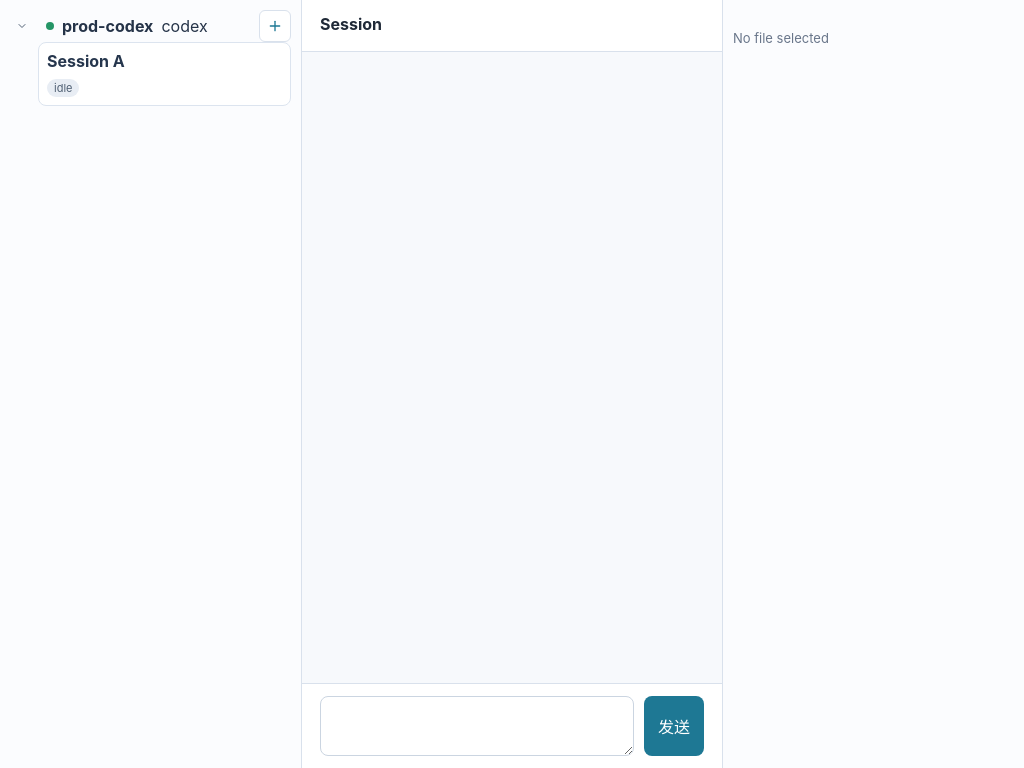
updates turn state from backend-neutral error status code
The width and height of the screenshot is (1024, 768).
Click the button "Session A idle": [164, 74] box [38,42,291,106]
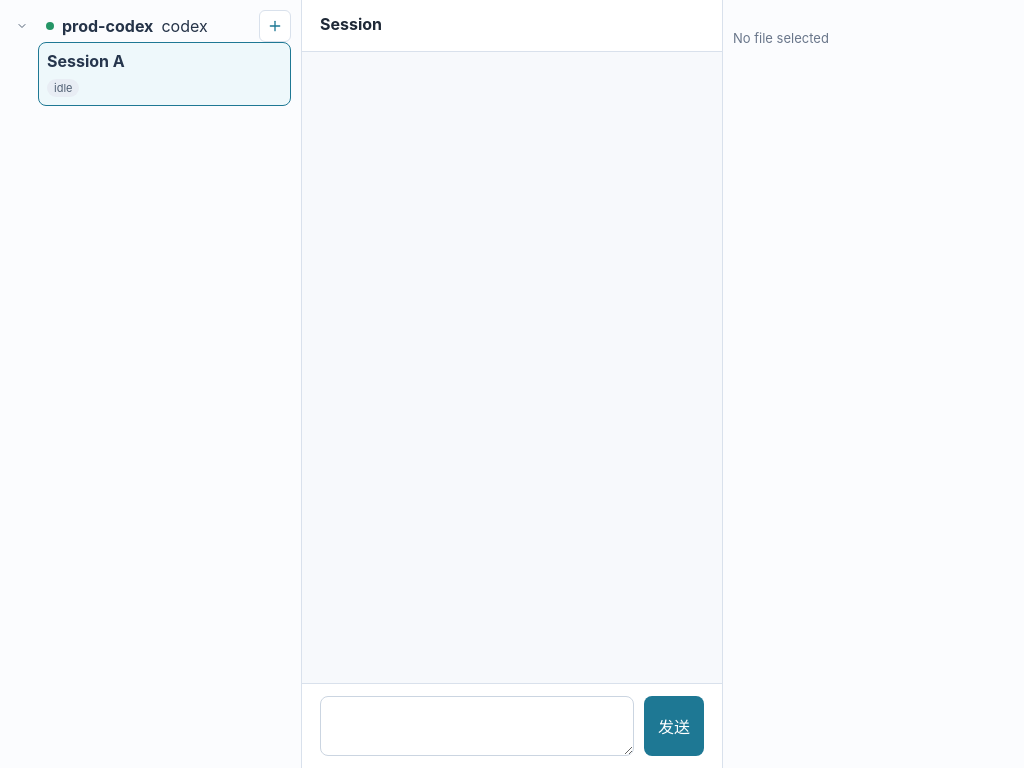
In the text box named "输入提示词": [477, 726] box [320,696,634,756], type "go"
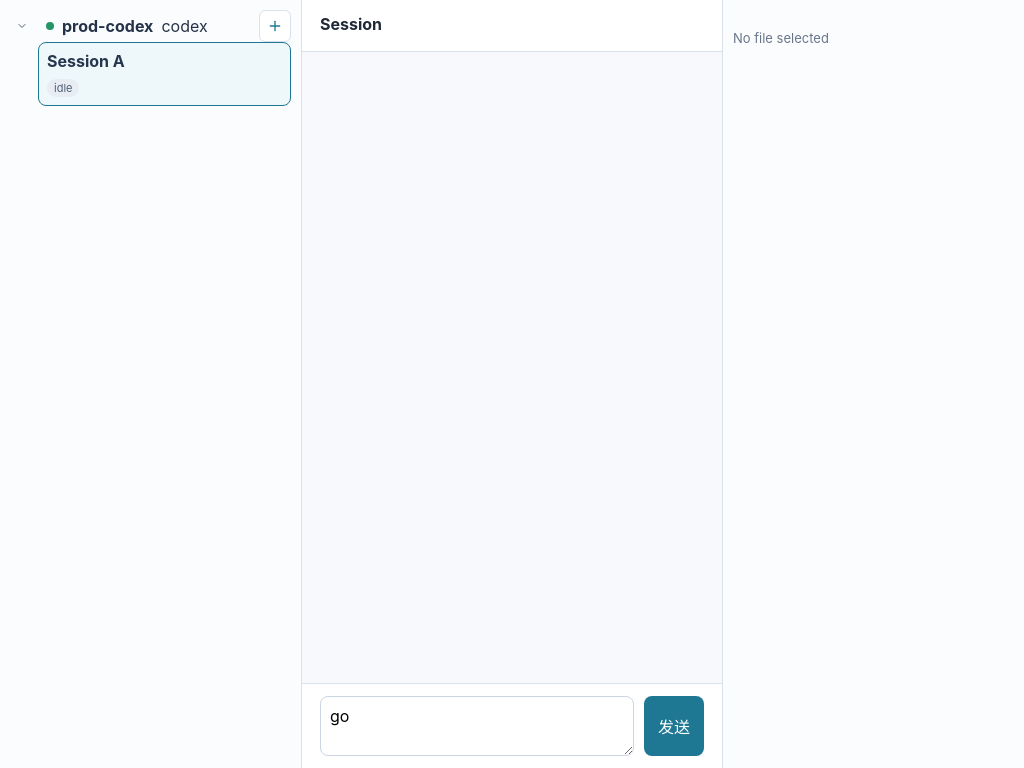
Submit the form, box [302,683,722,767]
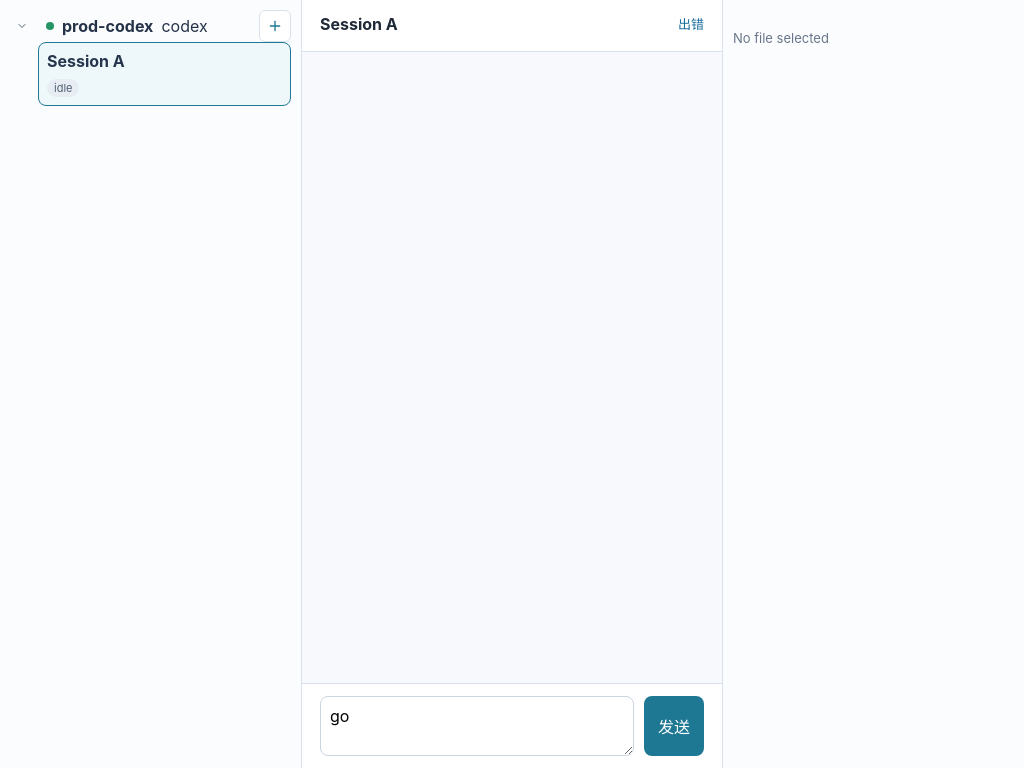
Expected: the message reads "出错", [678,16,704,32]
